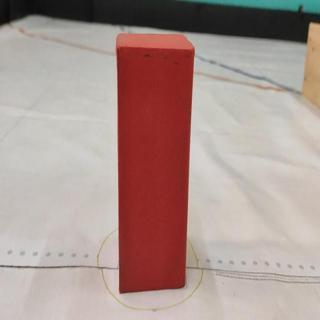redbox: (117, 31, 194, 295)
